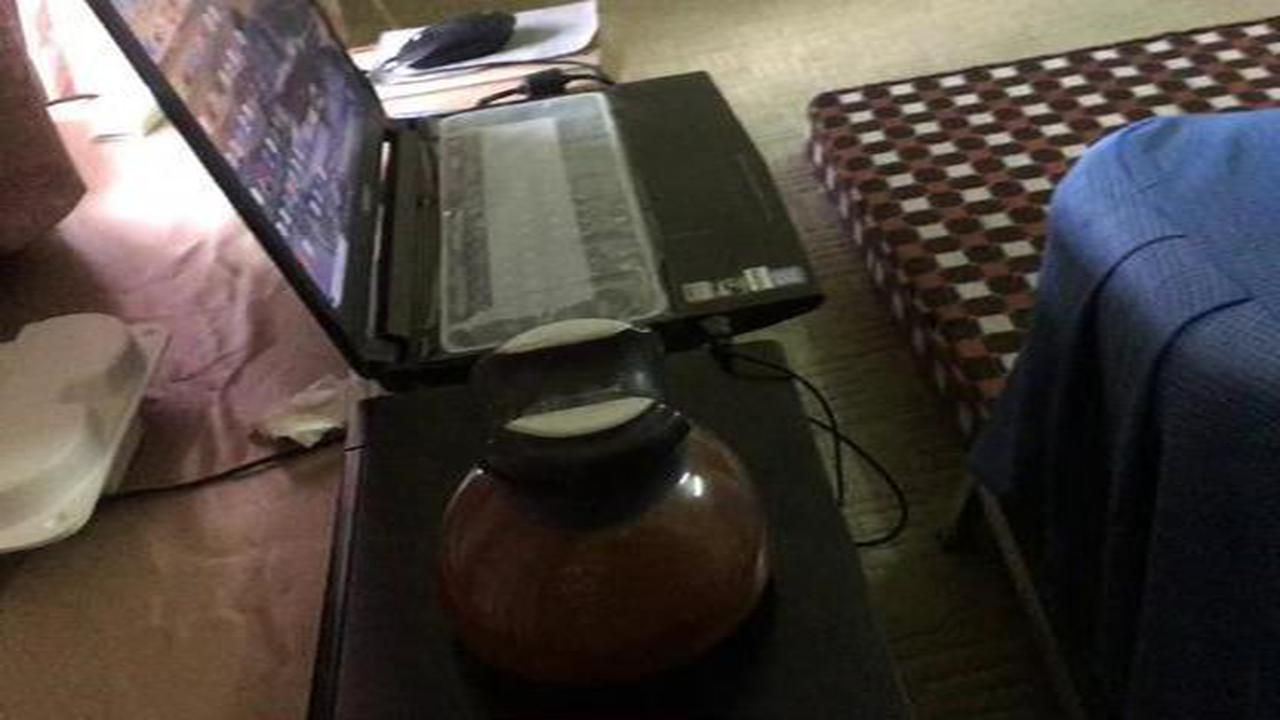insulator_pin: (412, 312, 797, 698)
